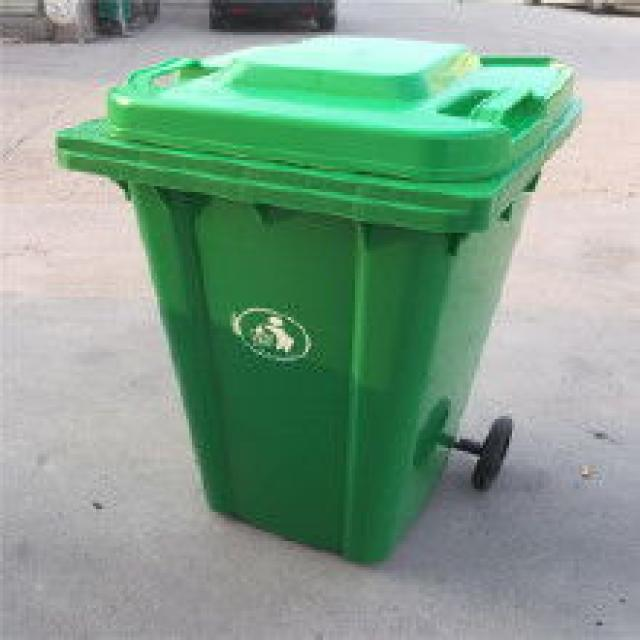garbage_bin: (52, 32, 579, 561)
